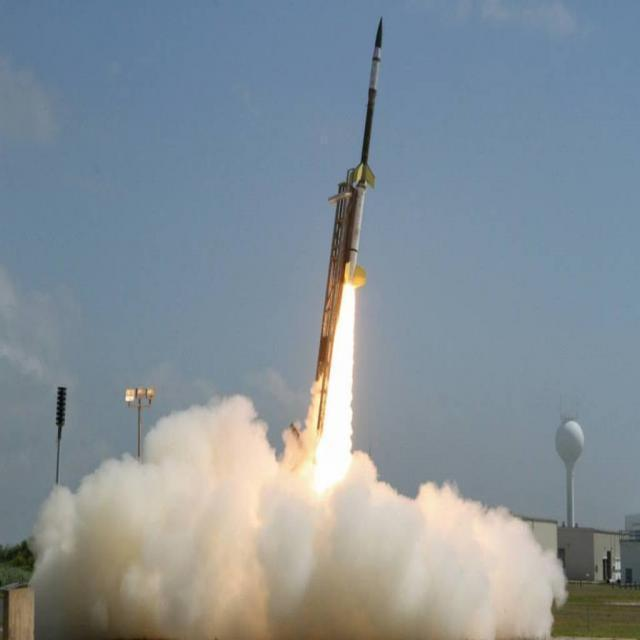missile: (347, 7, 382, 299)
